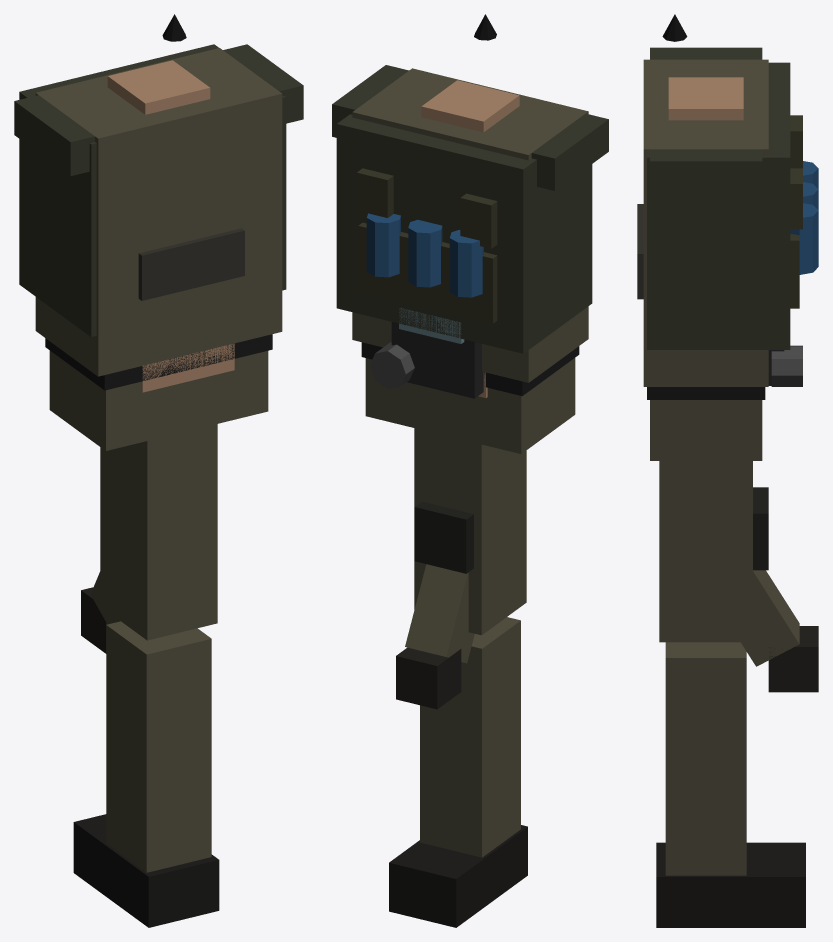
File: operator_thatcher.glb
3 renders of one model, left to right at view 1: azimuth 30°, elevation 25°; view 2: azimuth 150°, elevation 25°; view 3: azimuth 270°, elevation 25°, orthographic. The views are drawn at different scales.
Parts seen in each view (by area): view 1: torso, legL, hips, head, armL; view 2: torso, legL, hips, armL, head; view 3: torso, legL, hips, armL, head.
Boxes of the visible parts, left/top/right/bottom form: torso: left=14, top=14, right=303, bottom=376; legL: left=73, top=424, right=219, bottom=927; hips: left=45, top=334, right=272, bottom=450; head: left=138, top=228, right=244, bottom=392; armL: left=81, top=571, right=120, bottom=653; torso: left=332, top=14, right=608, bottom=382; legL: left=389, top=428, right=527, bottom=927; hips: left=361, top=342, right=579, bottom=453; armL: left=396, top=564, right=474, bottom=709; head: left=369, top=308, right=487, bottom=398; torso: left=643, top=14, right=818, bottom=386; legL: left=656, top=461, right=805, bottom=927; hips: left=647, top=387, right=765, bottom=460; armL: left=741, top=570, right=818, bottom=692; head: left=637, top=204, right=802, bottom=386.
Size of the model in its own units: 0.43 by 1.58 by 0.29.
